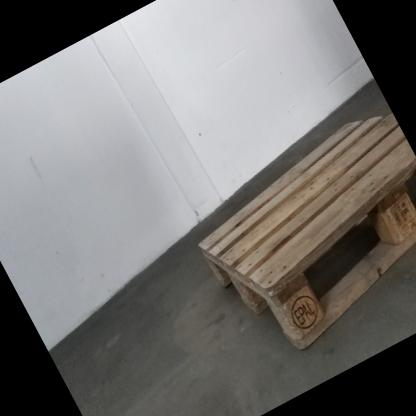BoxFace: (196, 108, 416, 361)
